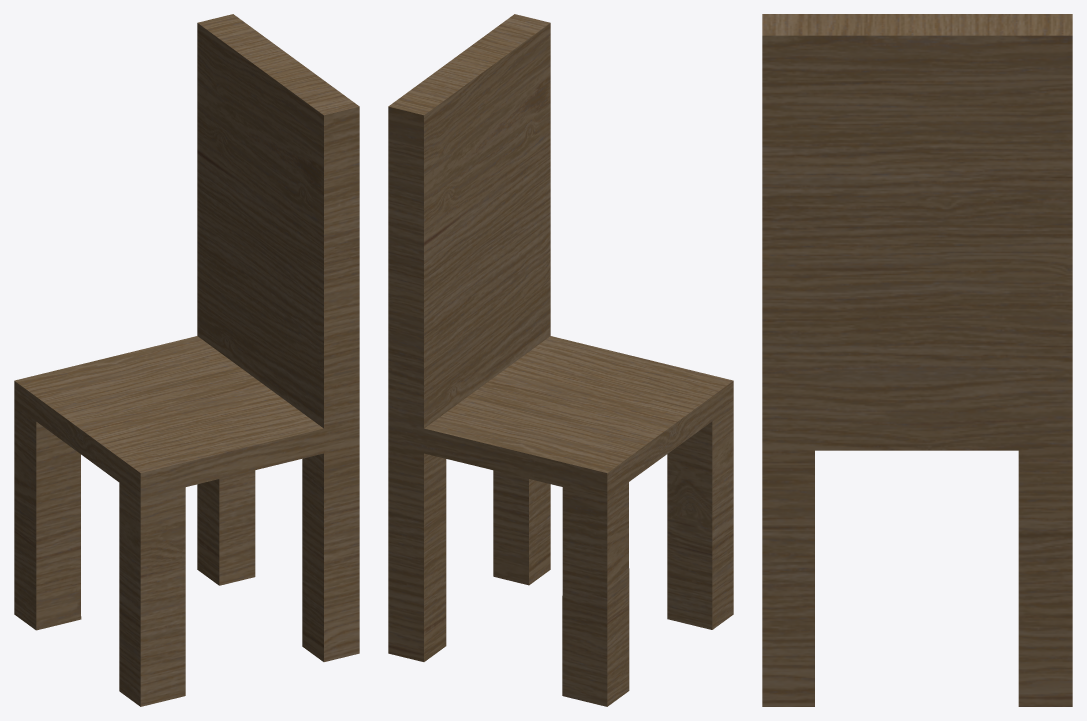
Rendered from chair_textured_simple.fbx.
3 views of the same model, side by side, from view 1: azimuth 30°, elevation 25°; view 2: azimuth 150°, elevation 25°; view 3: azimuth 270°, elevation 25° (orthographic). The views are drawn at different scales.
Visible parts, largest first — view 1: Plane; view 2: Plane; view 3: Plane.
Boxes of the visible parts, x1=… form: Plane: x1=14, y1=14, x2=359, y2=706; Plane: x1=388, y1=14, x2=733, y2=706; Plane: x1=762, y1=14, x2=1072, y2=706.
Bounding box in the file's own units: 50.5 × 120 × 50.5.
